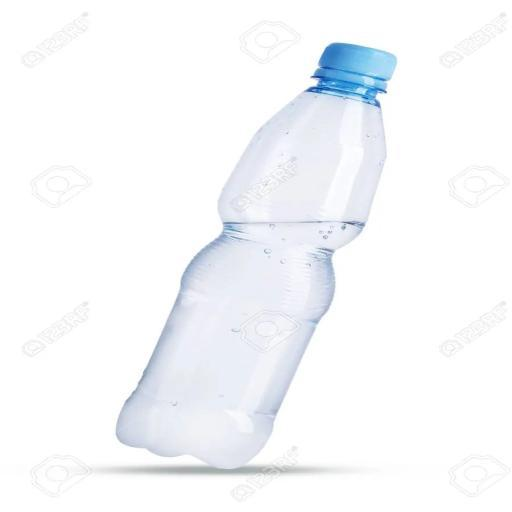bottle: (106, 36, 412, 476)
